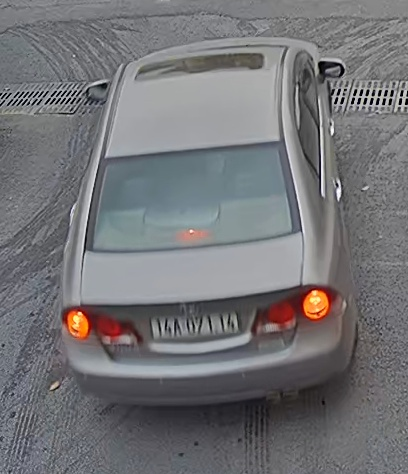vehicle plate: (148, 307, 242, 340)
